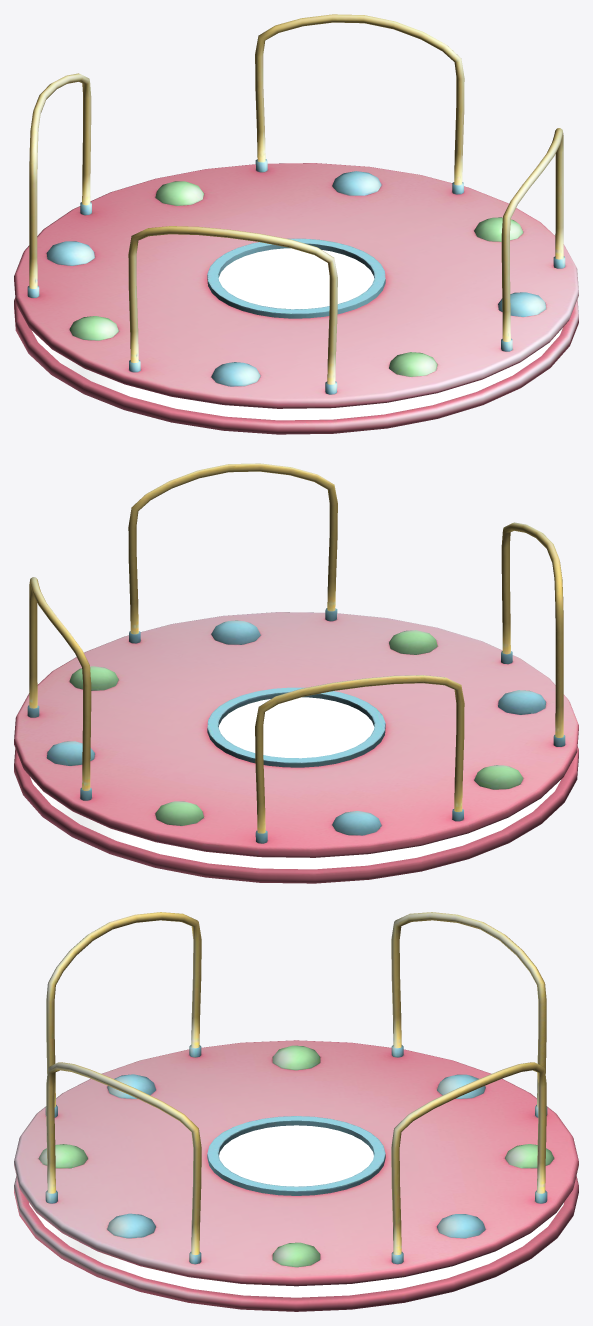
File: 10917073-aab1-42b4-a647-3bb09dec73cd.glb
3 views of the same model, one above another, from view 1: azimuth 30°, elevation 25°; view 2: azimuth 150°, elevation 25°; view 3: azimuth 270°, elevation 25° (orthographic).
Visible parts, largest first — view 1: candyElevatorA; view 2: candyElevatorA; view 3: candyElevatorA.
Boxes of the visible parts, left/top/right/bottom form: candyElevatorA: left=14, top=14, right=578, bottom=434; candyElevatorA: left=14, top=463, right=578, bottom=883; candyElevatorA: left=14, top=912, right=578, bottom=1311.
Size of what is drawn, in the model's own units: 3 by 1.13 by 3.
2 materials, 1 textured.
